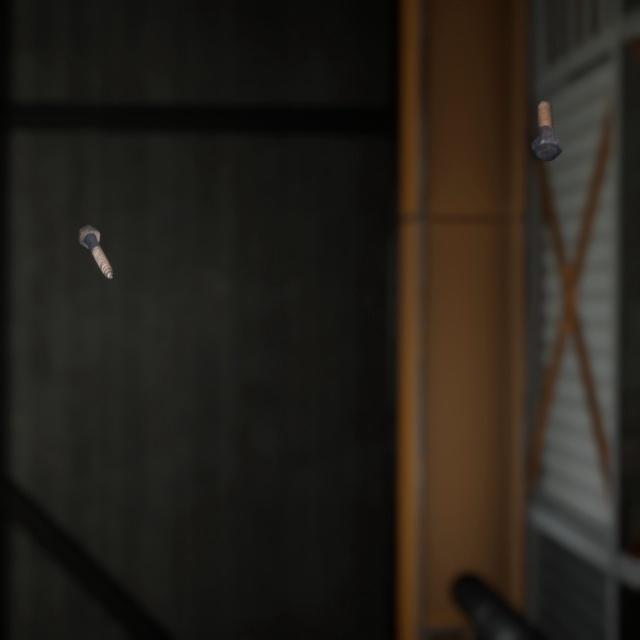bolt: (73, 204, 118, 267), (527, 84, 566, 152)
